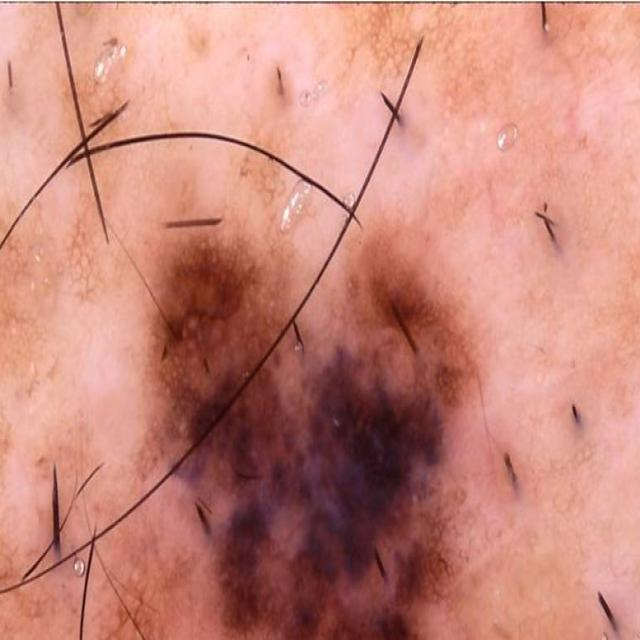Melanoma: (132, 168, 469, 640)
